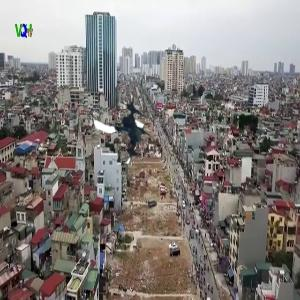drone: (84, 88, 161, 165)
